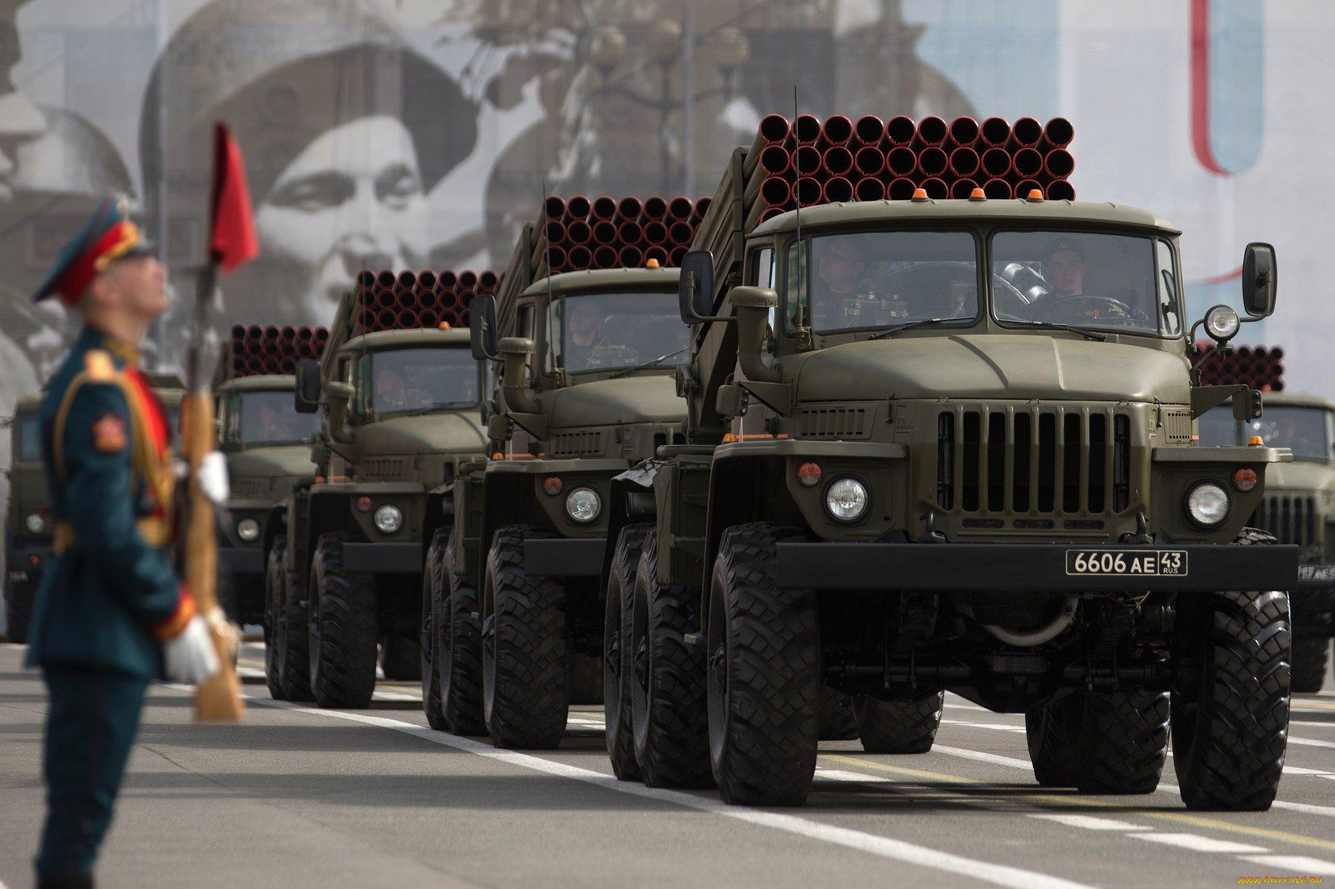rszo: (684, 119, 1272, 803), (488, 197, 677, 784), (308, 271, 473, 728), (194, 304, 325, 718)
